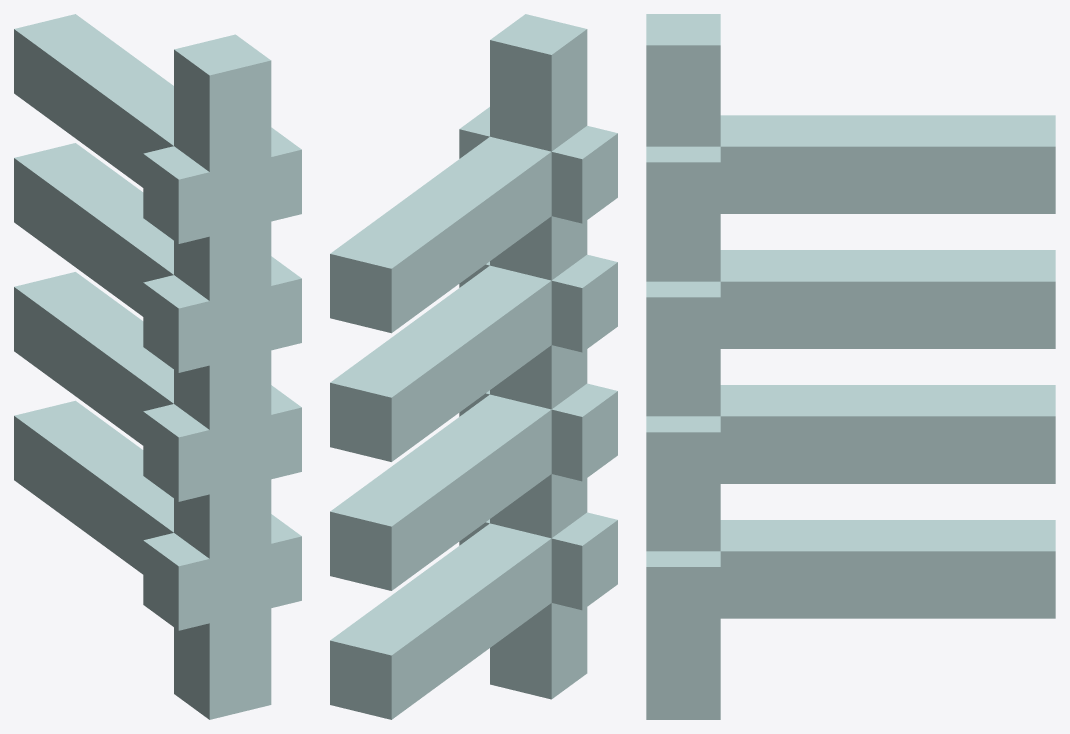
File: barrier.fbx
3 views of the same model, side by side, from view 1: azimuth 30°, elevation 25°; view 2: azimuth 150°, elevation 25°; view 3: azimuth 270°, elevation 25° (orthographic). The views are drawn at different scales.
Parts seen in each view (by area): view 1: vox_001; view 2: vox_001; view 3: vox_001.
Boxes of the visible parts, left/top/right/bottom form: vox_001: left=14, top=14, right=301, bottom=719; vox_001: left=330, top=14, right=617, bottom=719; vox_001: left=646, top=14, right=1055, bottom=719.
Bounding box in the file's own units: 400 × 2000 × 1100.
